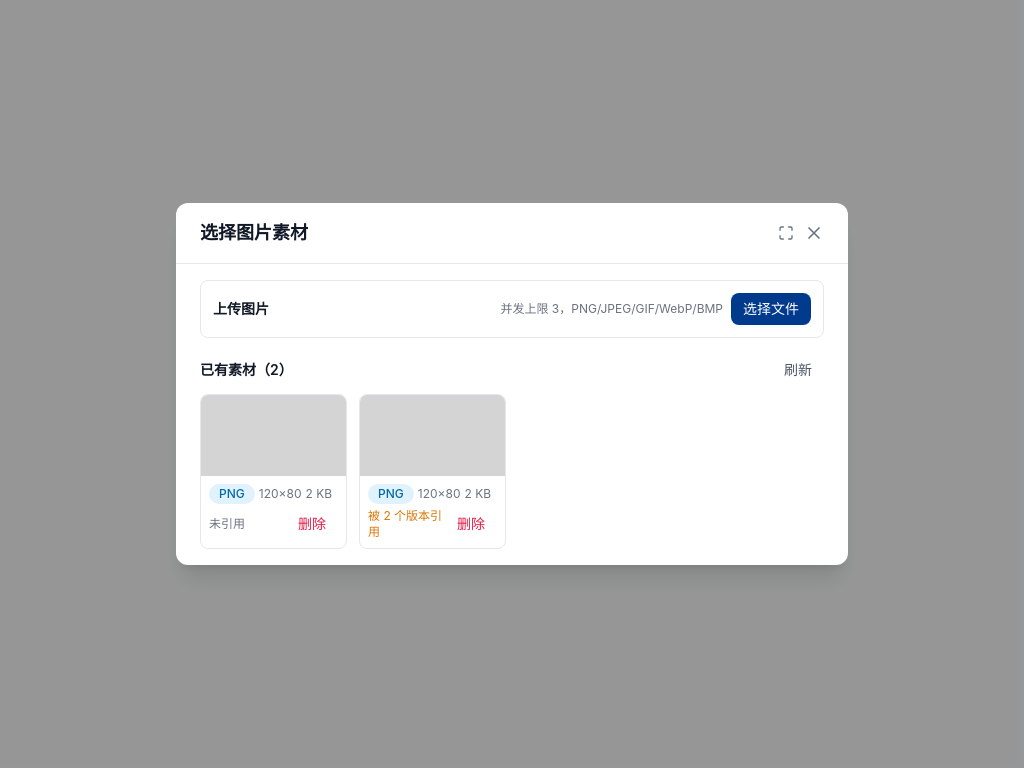
Test case: AssetLibrary › 删除 409 ASSET_IN_USE：错误文案展示且不关闭确认框
Click the button "删除" next to "未引用": (312, 524) [286,508,338,540]
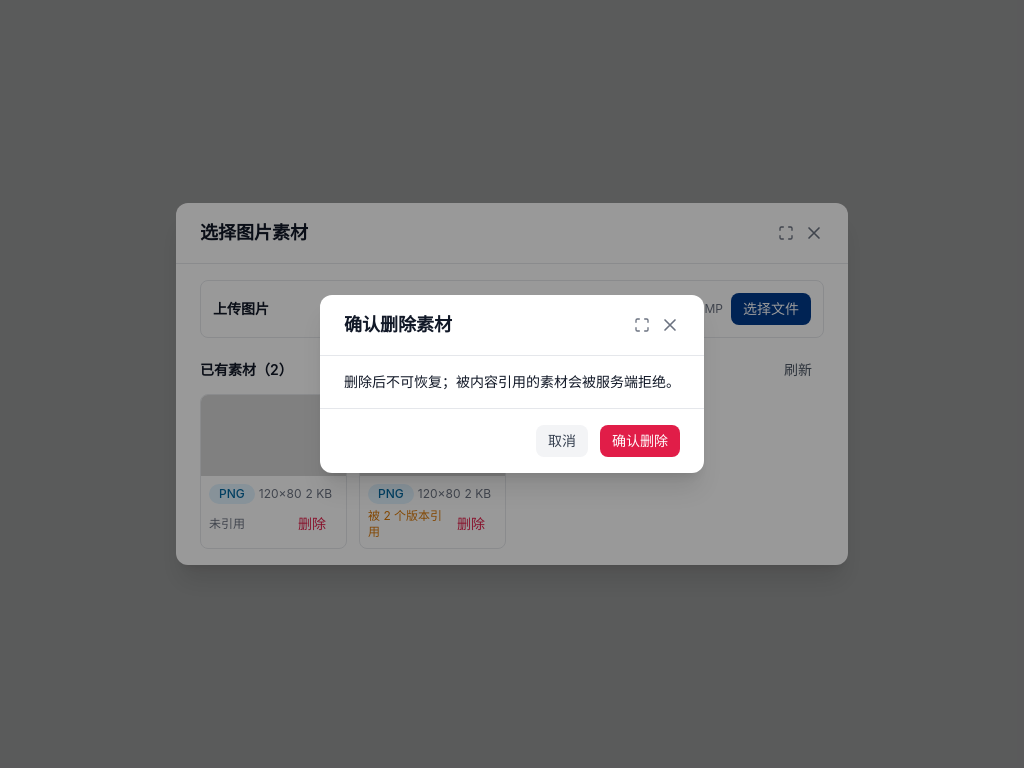
Expected: the text "确认删除素材" is shown, [344,311,452,339]
Click the button "确认删除": (640, 441) [600,425,680,457]
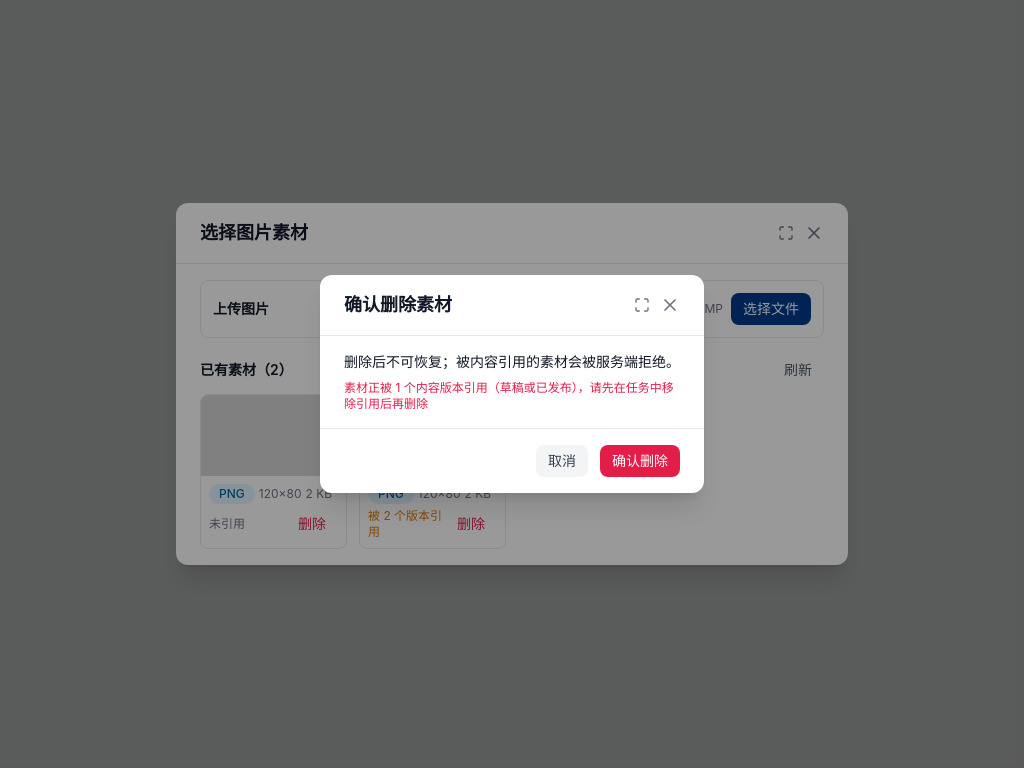
Expected: the text "确认删除素材" is shown, [344,291,452,319]
Expected: the text with test id "delete-error" shows "请先在任务中移除引用", [344,380,674,411]
